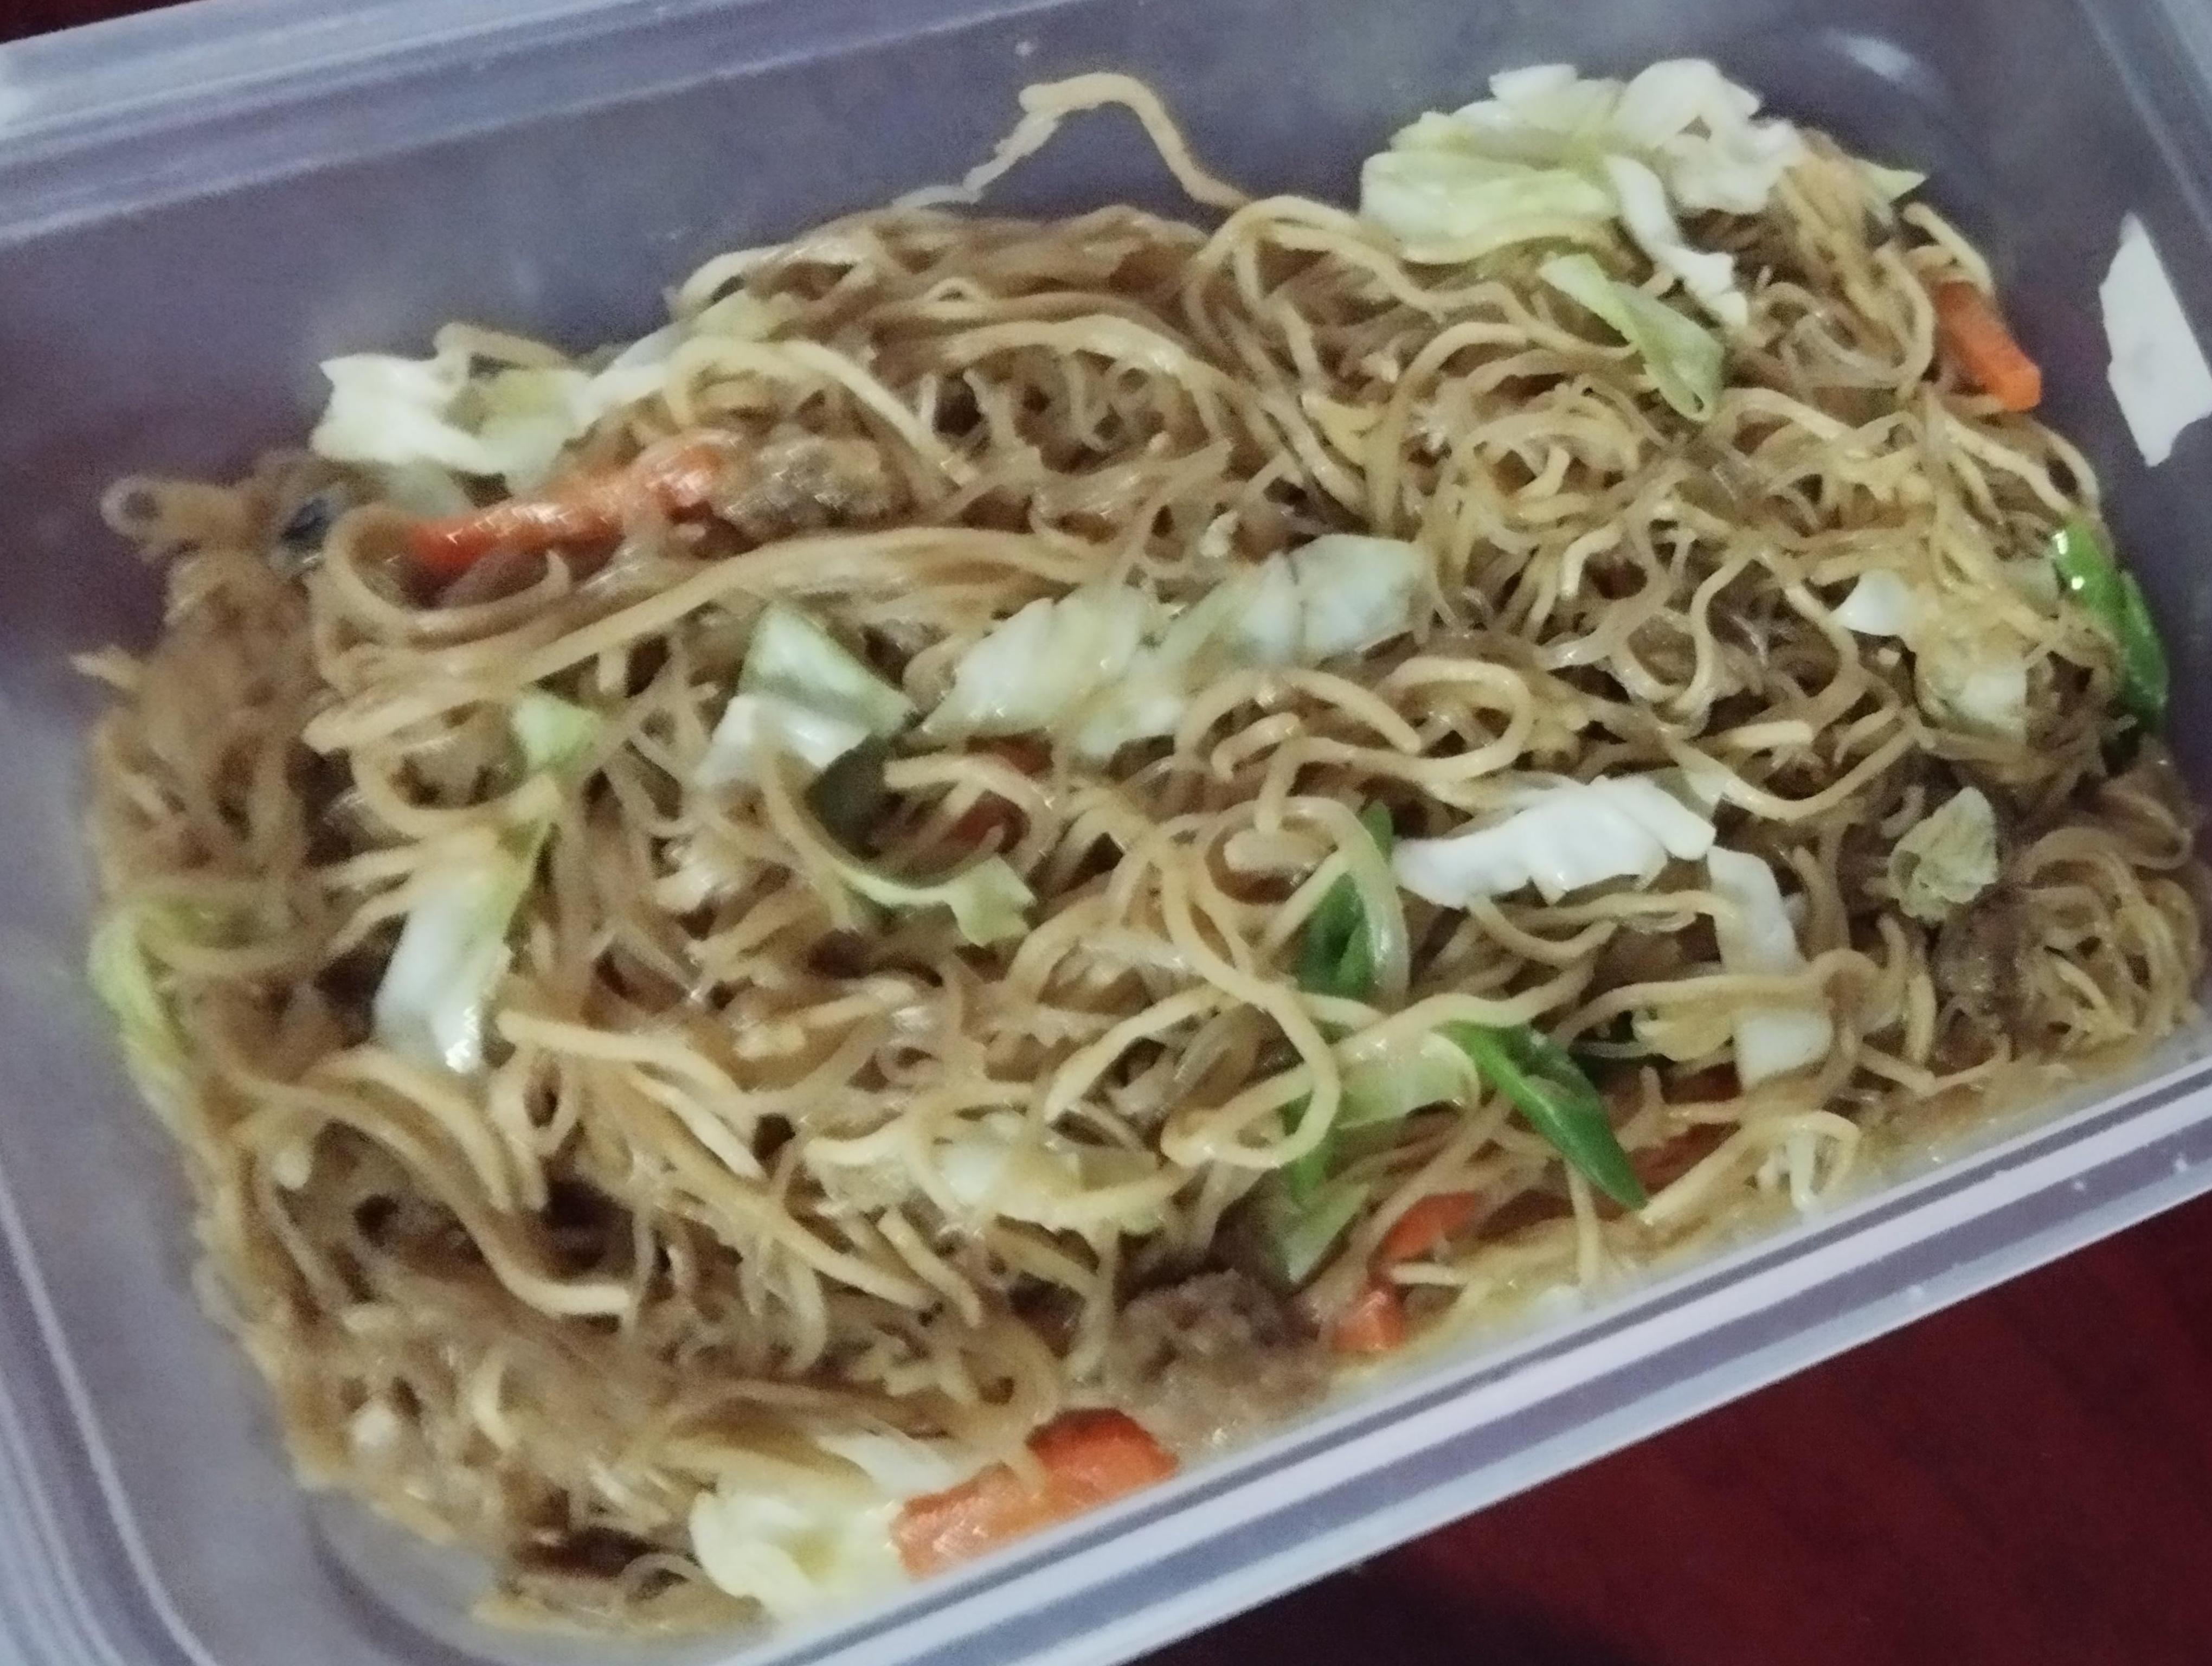pancit bihon: (82, 42, 2212, 1622)
